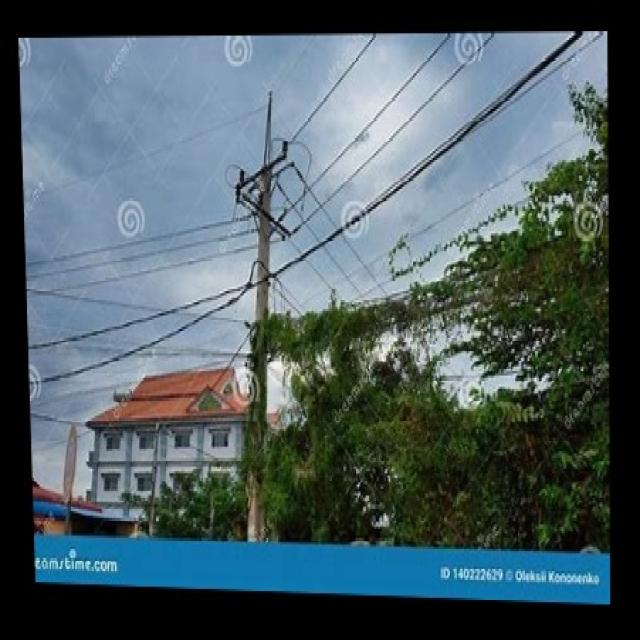critical vegetation: (262, 253, 609, 432)
